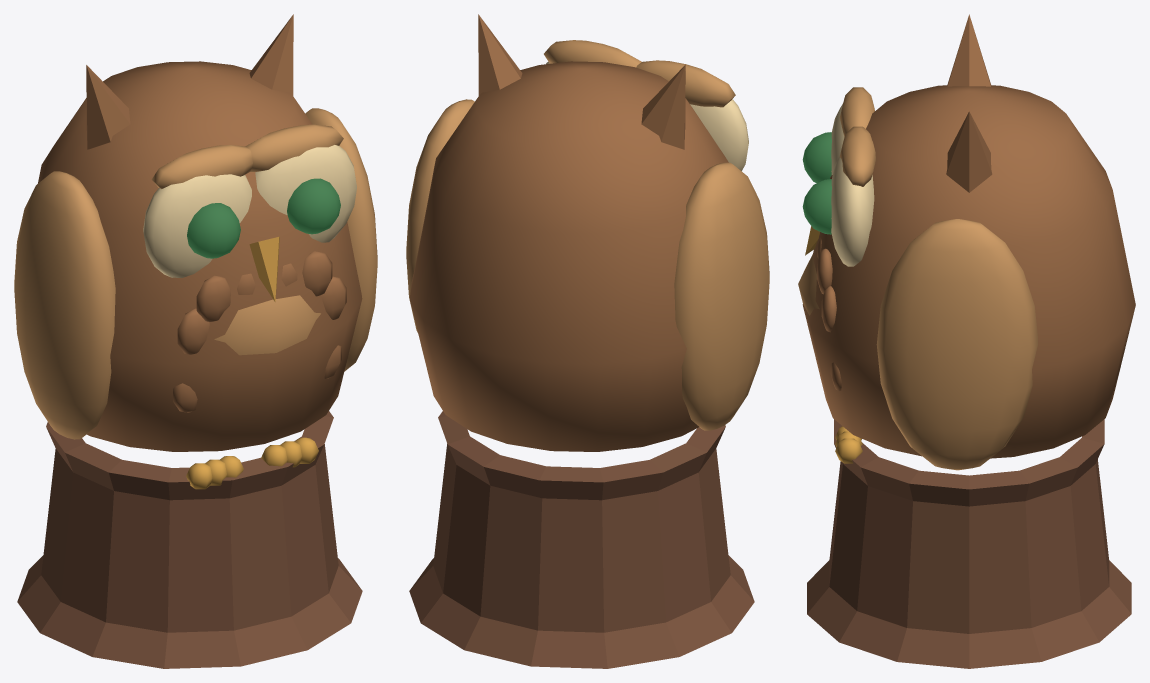
Rendered from owl.glb.
3 views of the same model, side by side, from view 1: azimuth 30°, elevation 25°; view 2: azimuth 150°, elevation 25°; view 3: azimuth 270°, elevation 25° (orthographic). The views are drawn at different scales.
Visible parts, largest first — view 1: owl; view 2: owl; view 3: owl.
Part boxes in pixels (x1,y1,x2,y2): owl: [14, 14, 377, 668]; owl: [406, 14, 769, 668]; owl: [798, 14, 1135, 668].
Size of the model in its own units: 1.55 by 2.56 by 1.46.
